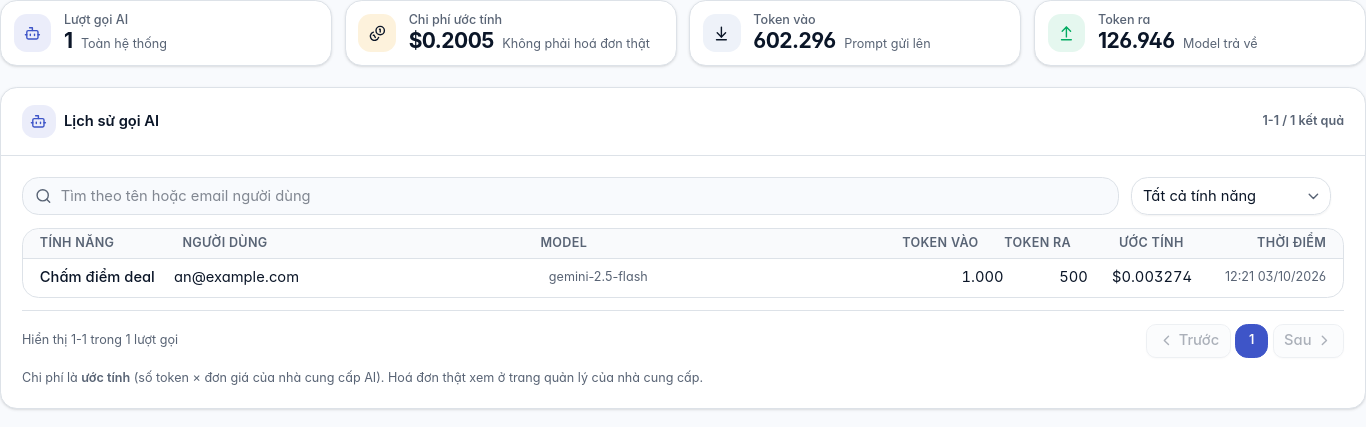
it: <AdminAiCostsPage /> — tìm kiếm và lọc › có đủ bốn tính năng AI để lọc
Click the dropdown named "Lọc tính năng" at (1231, 196), box [1131, 177, 1331, 215]
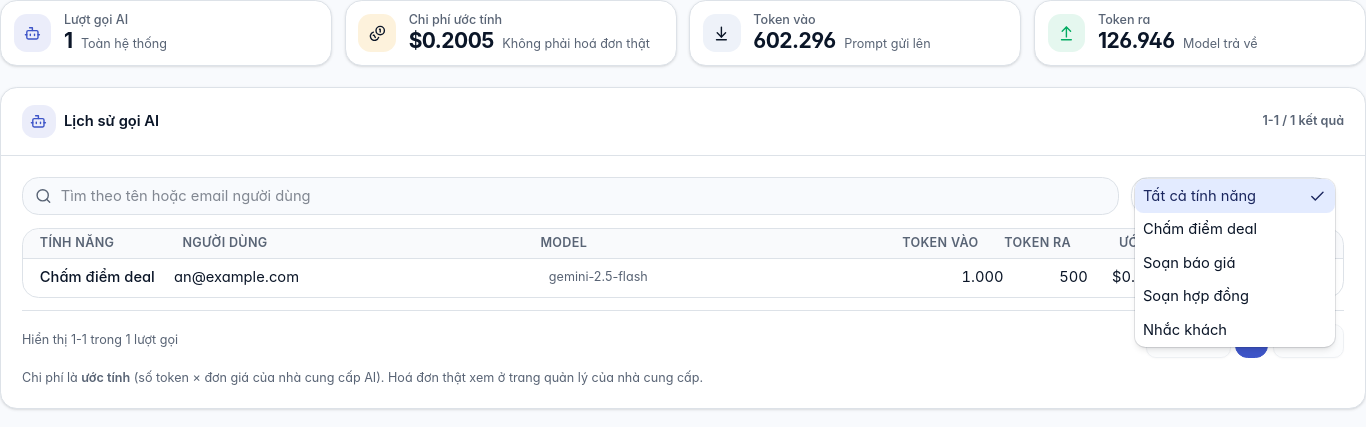
Now the options read "Tất cả tính năng", "Chấm điểm deal", "Soạn báo giá", "Soạn hợp đồng", "Nhắc khách", in this order, box [1134, 179, 1334, 213]; [1143, 220, 1257, 238]; [1143, 254, 1235, 272]; [1143, 287, 1249, 305]; [1143, 321, 1227, 339]
